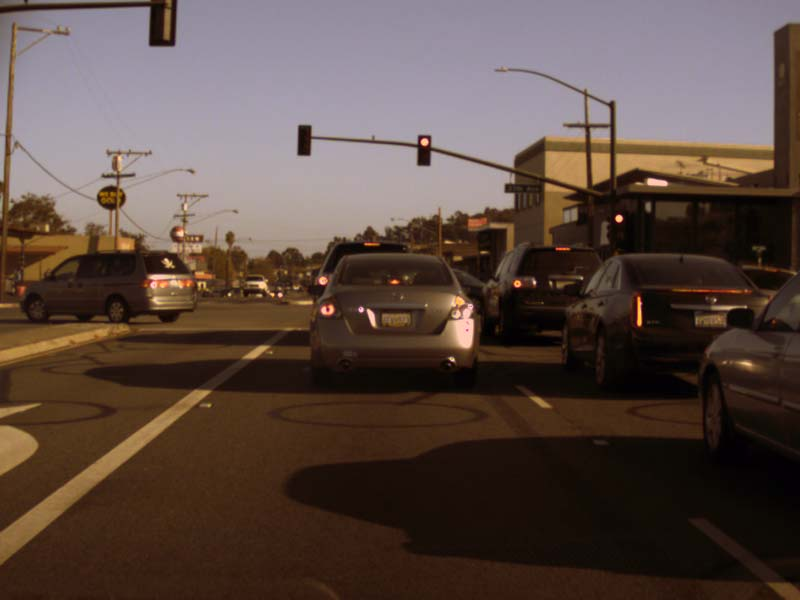Red: (416, 134, 431, 165), (612, 211, 625, 239)
